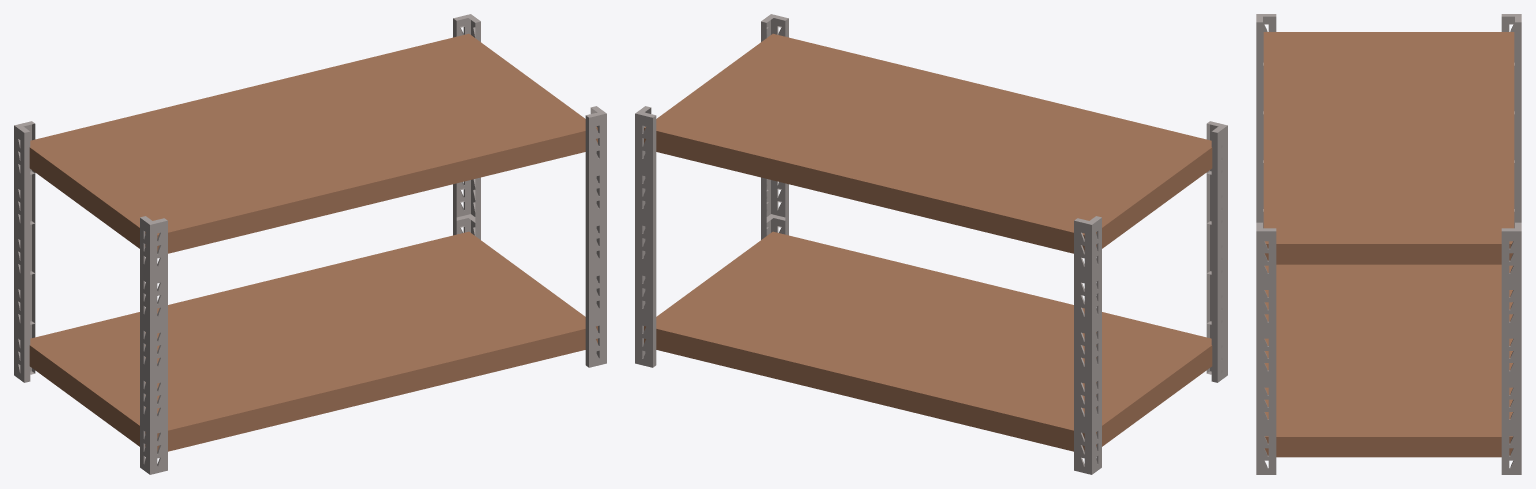
File: Shelf.fbx
3 renders of one model, left to right at view 1: azimuth 30°, elevation 25°; view 2: azimuth 150°, elevation 25°; view 3: azimuth 270°, elevation 25°, orthographic. The views are drawn at different scales.
Visible parts, largest first — view 1: Cube, Cube.001; view 2: Cube, Cube.001; view 3: Cube, Cube.001.
Part boxes in pixels (<box>): Cube: <box>29,33,597,451</box>; Cube.001: <box>14,14,606,474</box>; Cube: <box>644,33,1212,451</box>; Cube.001: <box>635,14,1227,474</box>; Cube: <box>1263,32,1514,457</box>; Cube.001: <box>1256,14,1521,474</box>.
Bounding box in the file's own units: 410 × 214 × 211.
